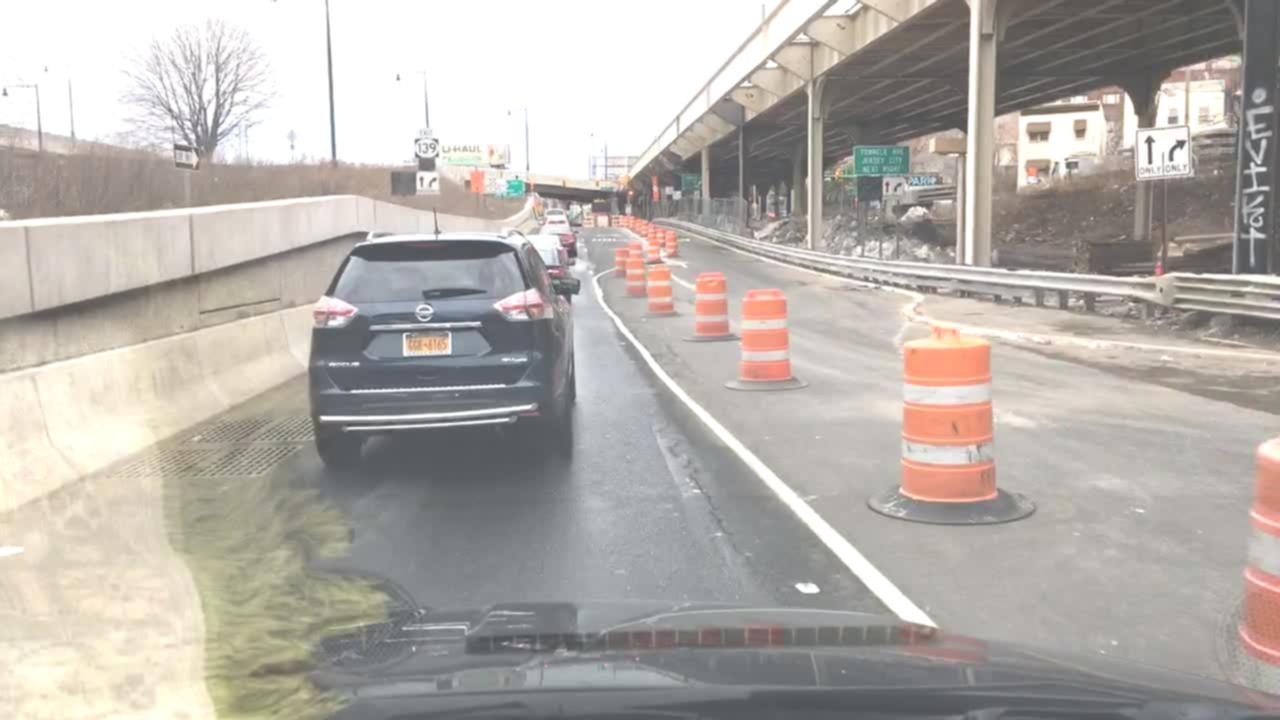Nissan: (409, 301, 441, 324)
